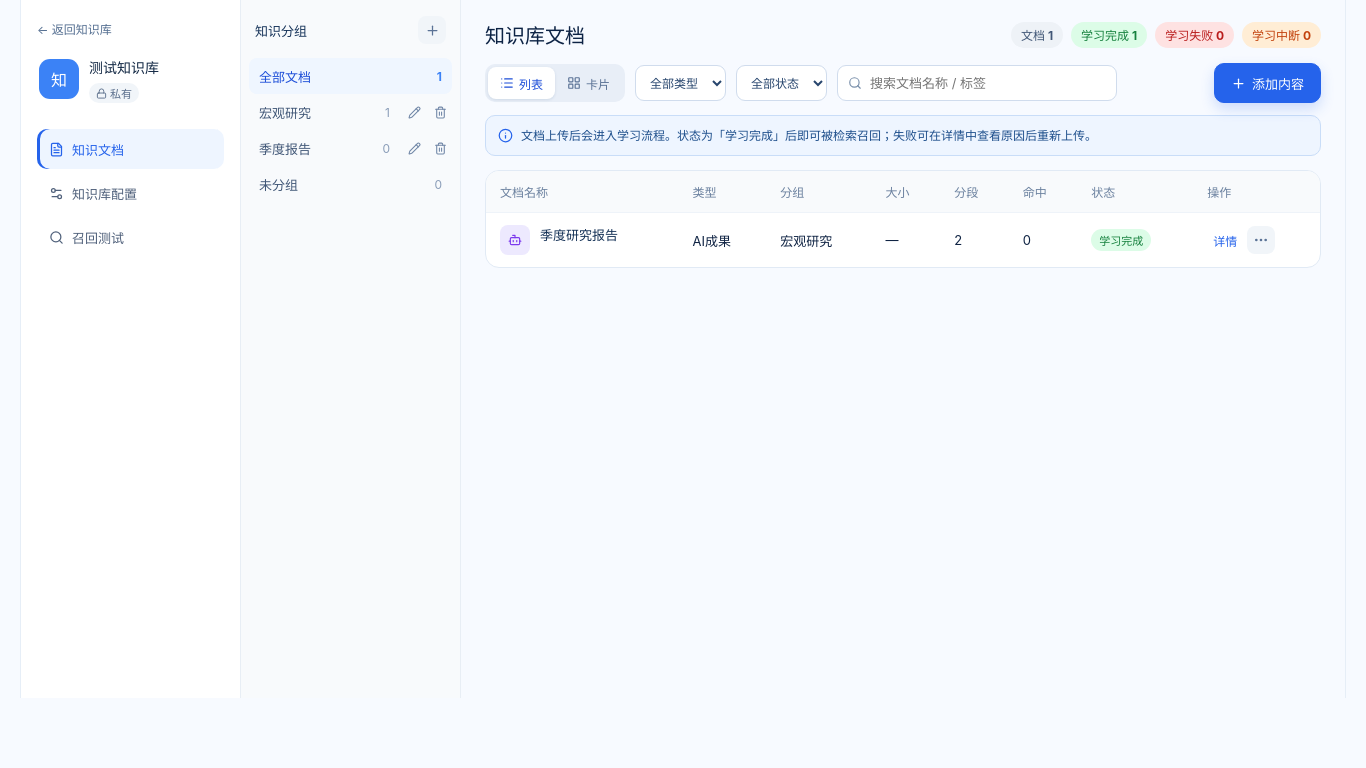
知识库自主分组 › 取消删除不会提交，确认后刷新文档并切换到未分组
The width and height of the screenshot is (1366, 768).
Check: the heading "知识库文档" is shown, box [485,20,585,49]
Click the button "宏观研究 1": (324, 112) [249,94,400,130]
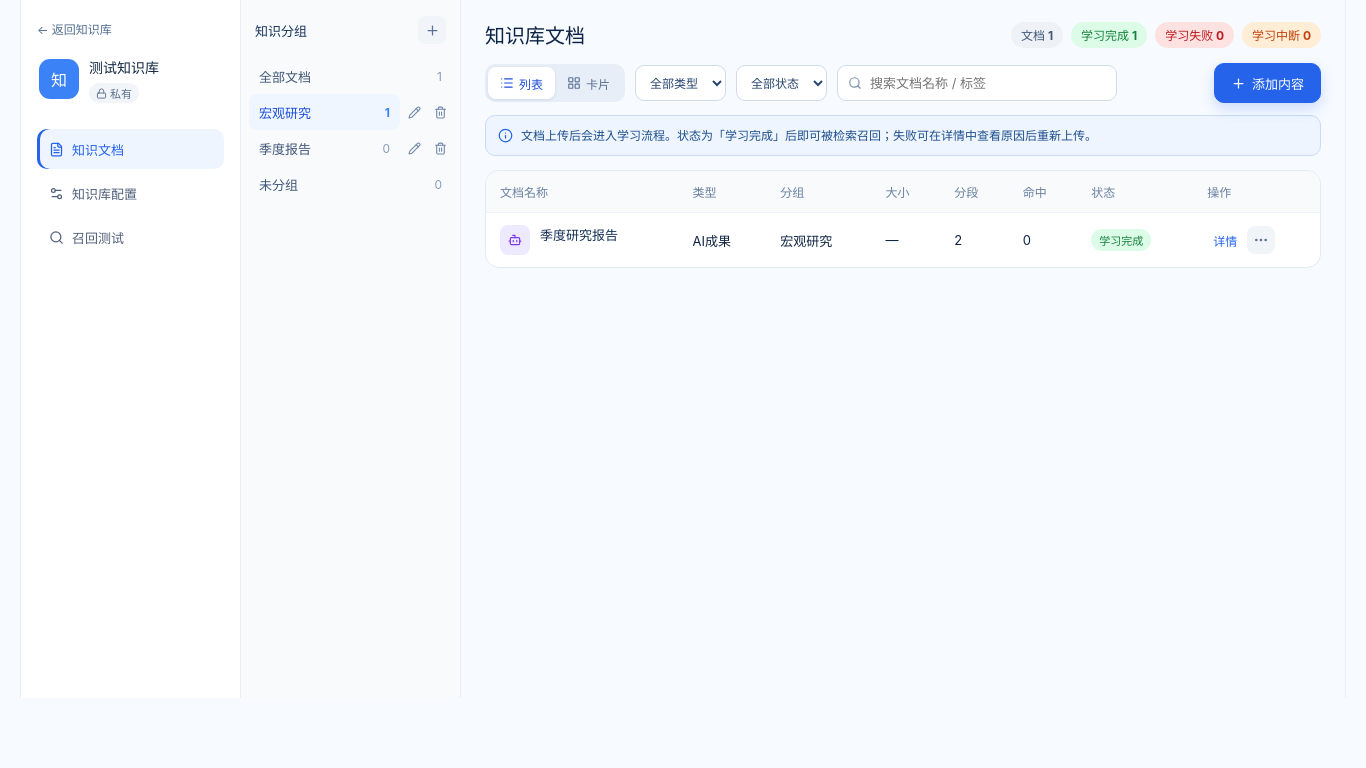
Click the button named "删除分组：宏观研究": (440, 112) [428,98,452,126]
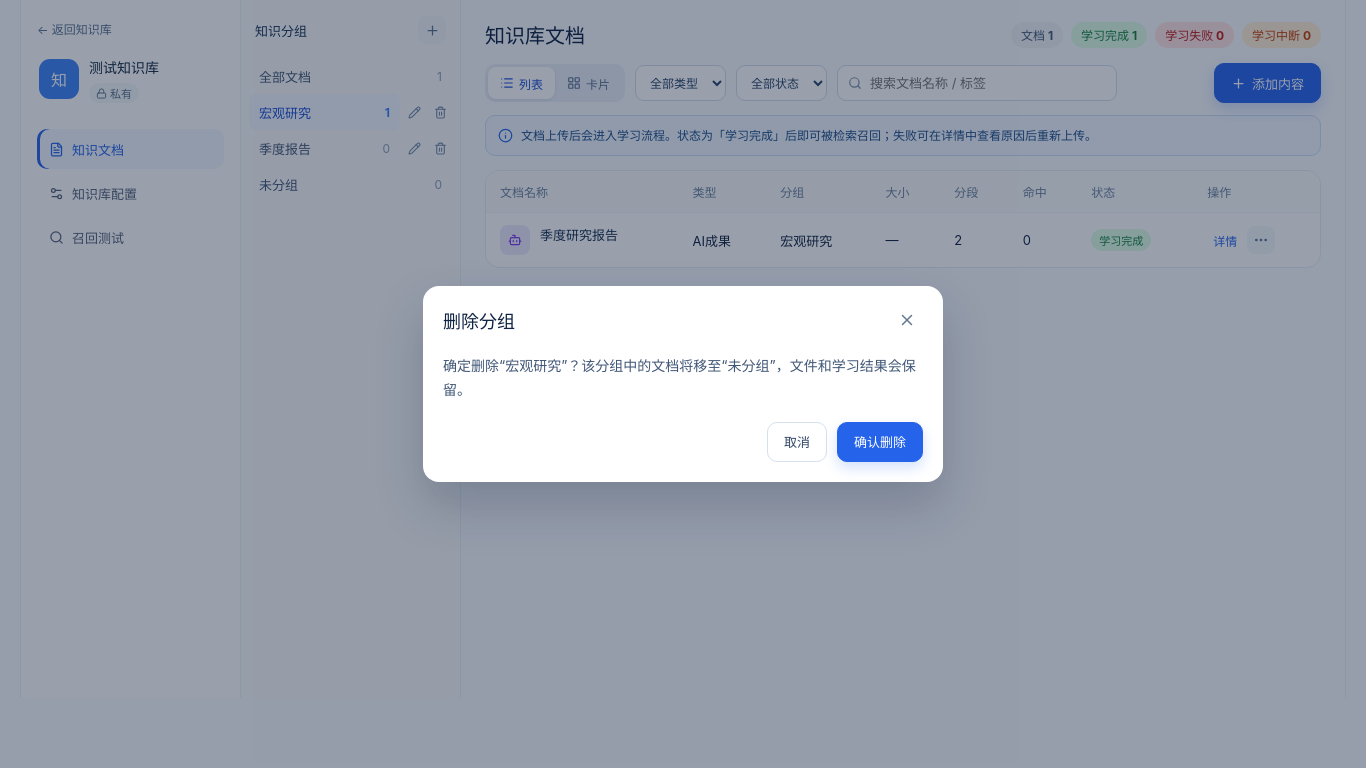
Click the button "取消": (797, 442) [767,422,827,462]
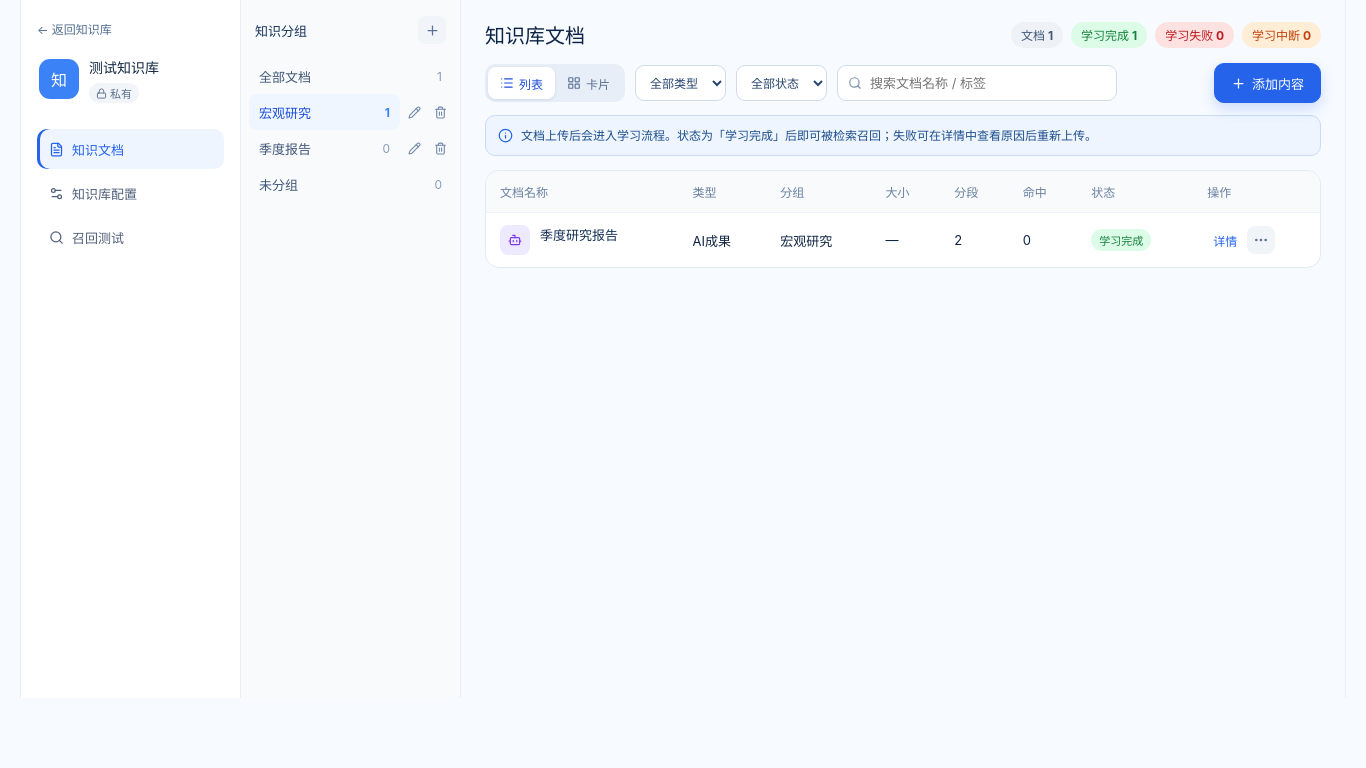
Click the button named "删除分组：宏观研究": (440, 112) [428,98,452,126]
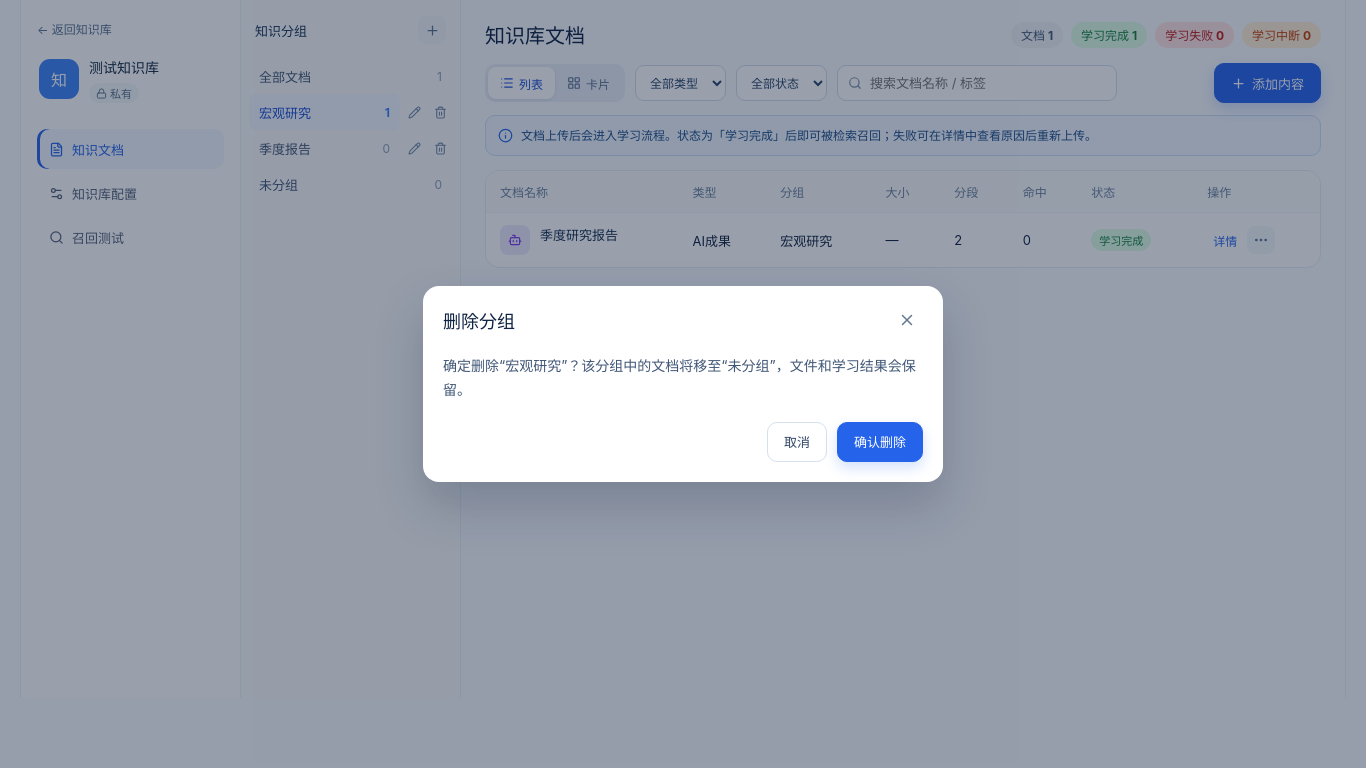
Click the button "确认删除": (880, 442) [837,422,923,462]
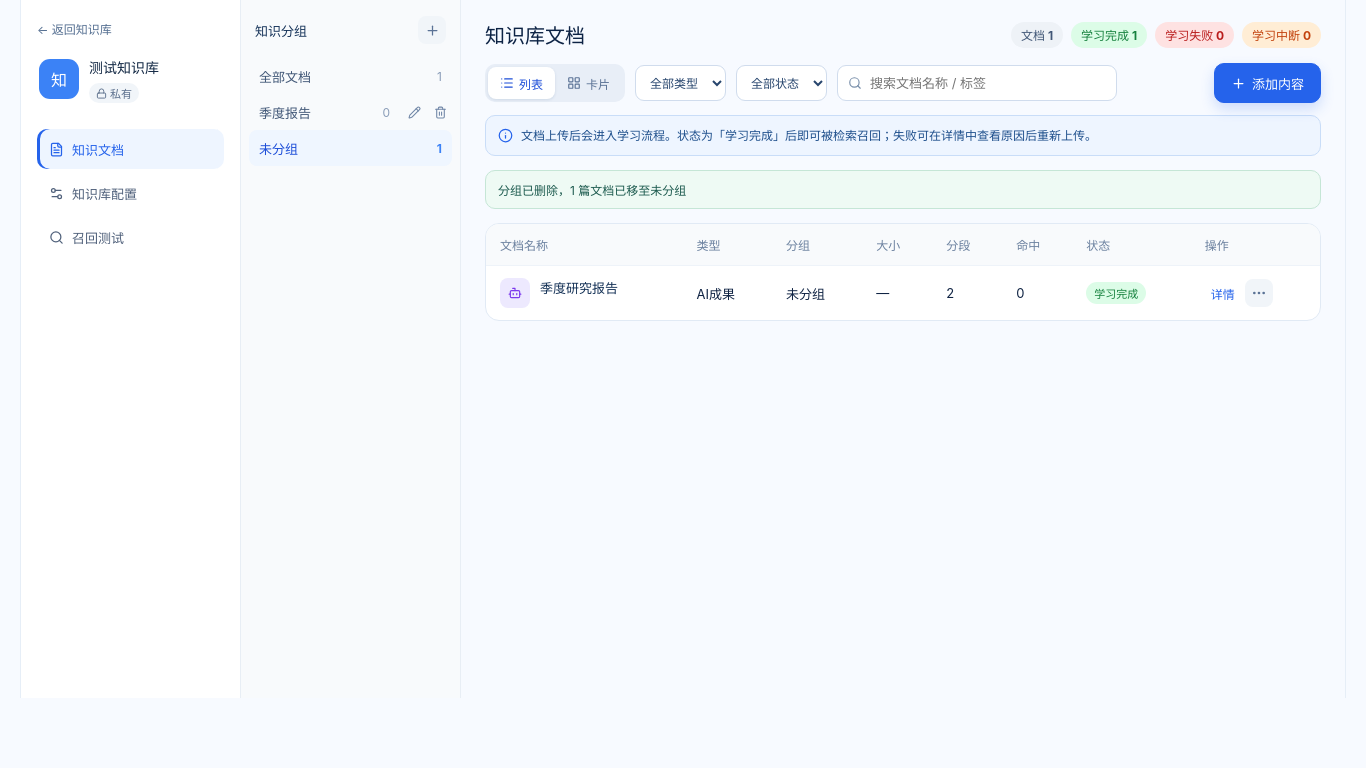
Check: the text "季度研究报告" is shown, box [540,278,618,297]
Check: the button "删除分组：宏观研究" is gone
